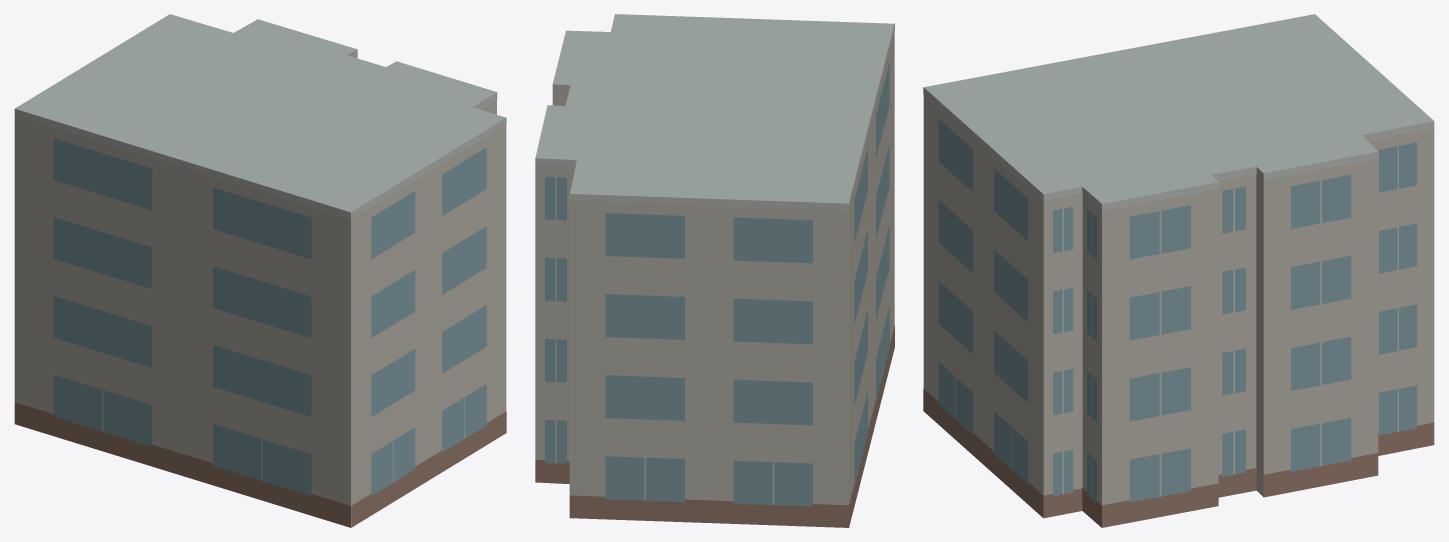
File: survey-upis-32593806.glb
3 views of the same model, side by side, from view 1: azimuth 30°, elevation 25°; view 2: azimuth 150°, elevation 25°; view 3: azimuth 270°, elevation 25° (orthographic). The views are drawn at different scales.
Visible parts, largest first — view 1: survey-upis-32593806.tmp; view 2: survey-upis-32593806.tmp; view 3: survey-upis-32593806.tmp.
Boxes of the visible parts, x1=… form: survey-upis-32593806.tmp: x1=14, y1=14, x2=506, y2=527; survey-upis-32593806.tmp: x1=535, y1=14, x2=894, y2=527; survey-upis-32593806.tmp: x1=923, y1=14, x2=1434, y2=527.
Bounding box in the file's own units: 13.79 × 10.96 × 15.67.
